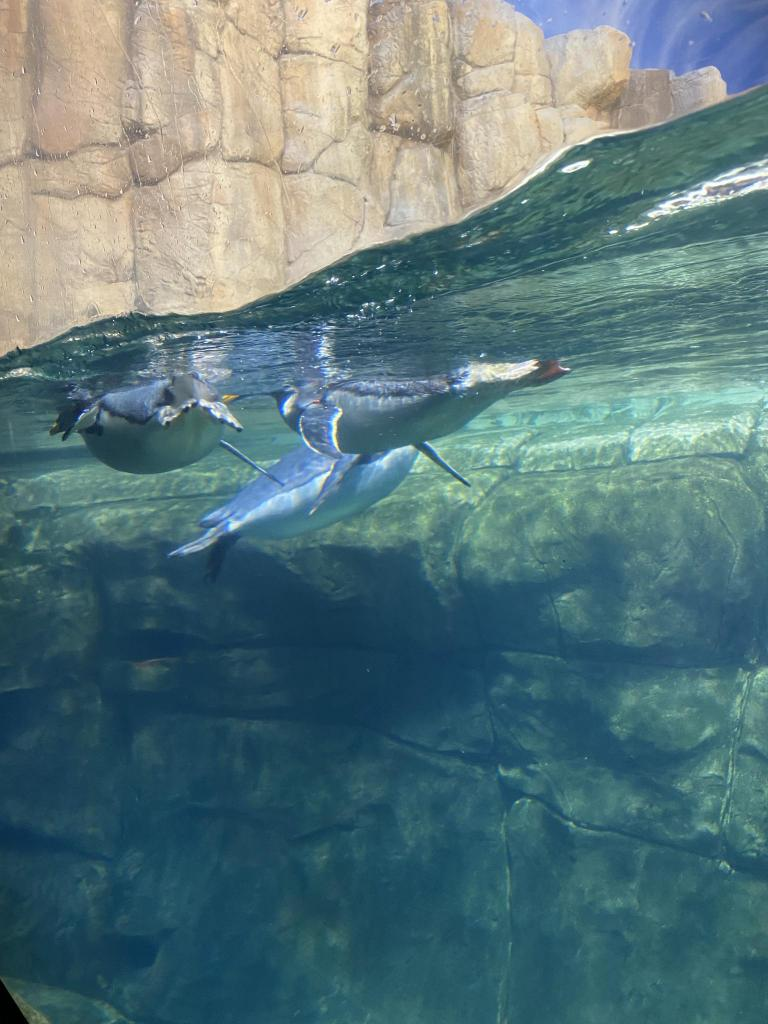penguin: (218, 354, 572, 486), (169, 410, 421, 580), (46, 370, 284, 488)
